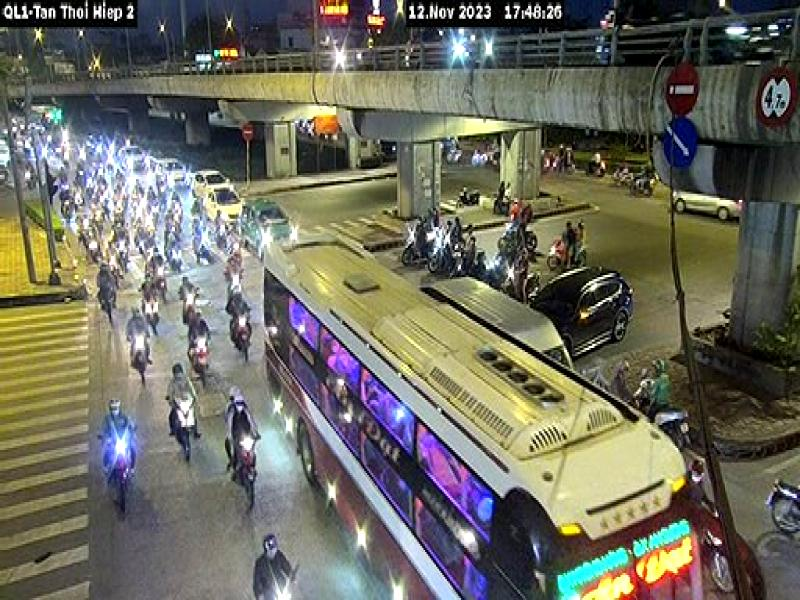bus: (262, 229, 712, 600)
